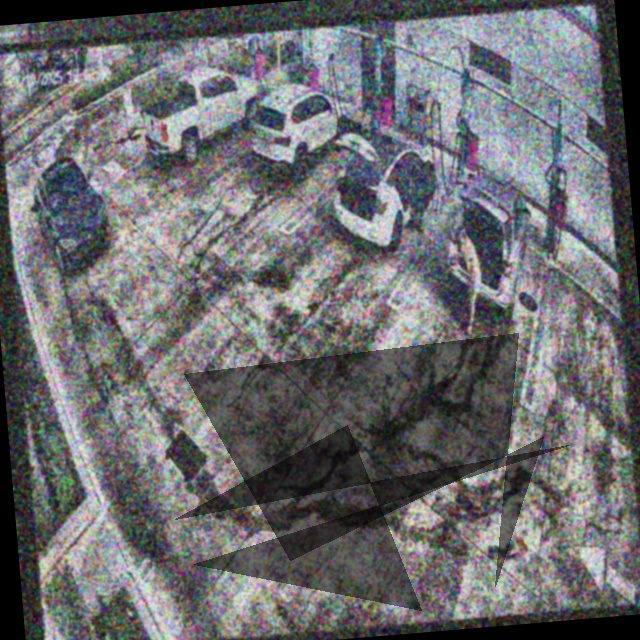Car: (327, 125, 442, 262), (440, 161, 536, 324), (140, 61, 267, 169), (248, 77, 351, 183)
